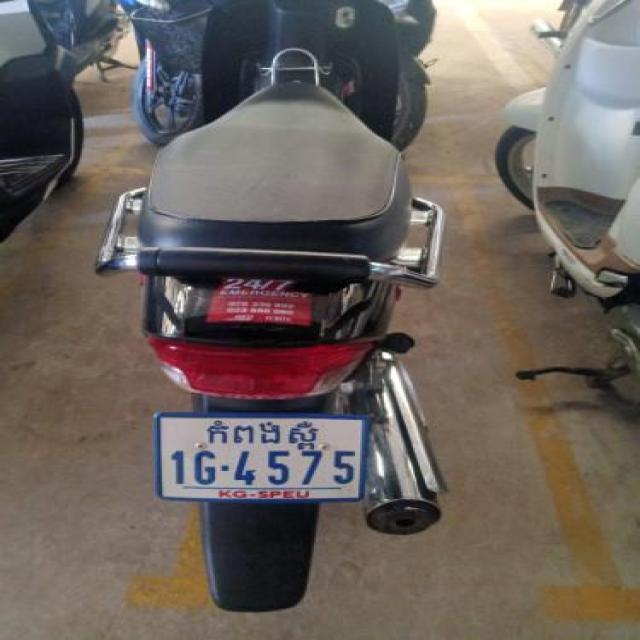Kampong_Speu: (207, 420, 320, 450)
